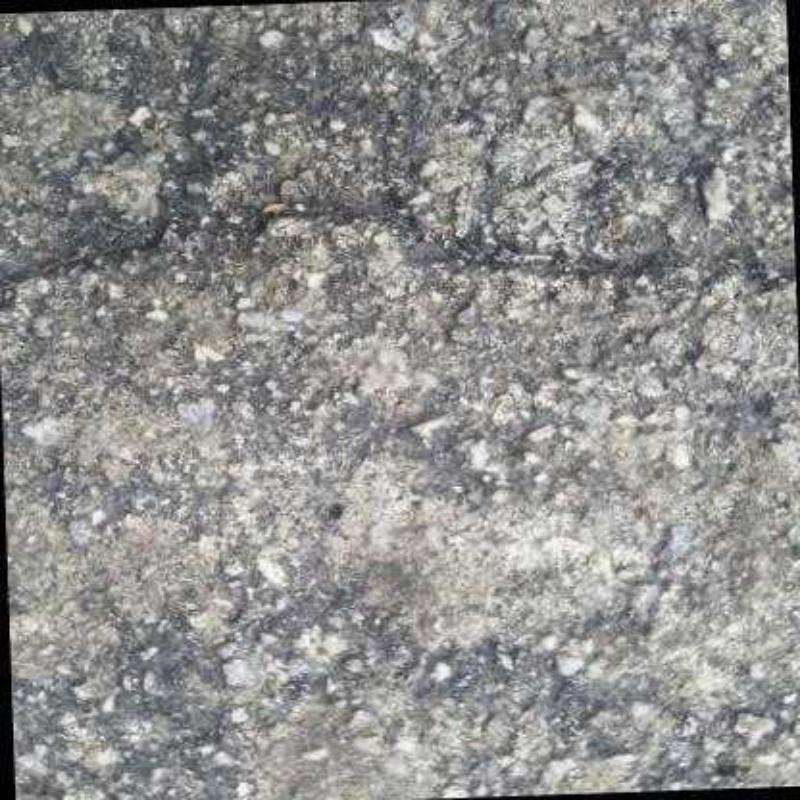pothole: (16, 205, 796, 293)
